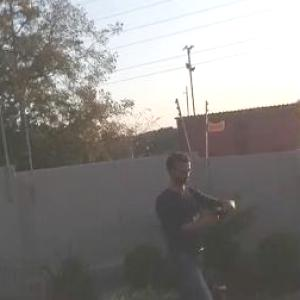follow: (150, 143, 246, 299)
